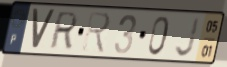0: (147, 15, 172, 57)
3: (113, 13, 138, 55)
J: (173, 16, 202, 60)
R: (80, 10, 113, 56), (47, 10, 80, 51)
V: (31, 7, 57, 52)
